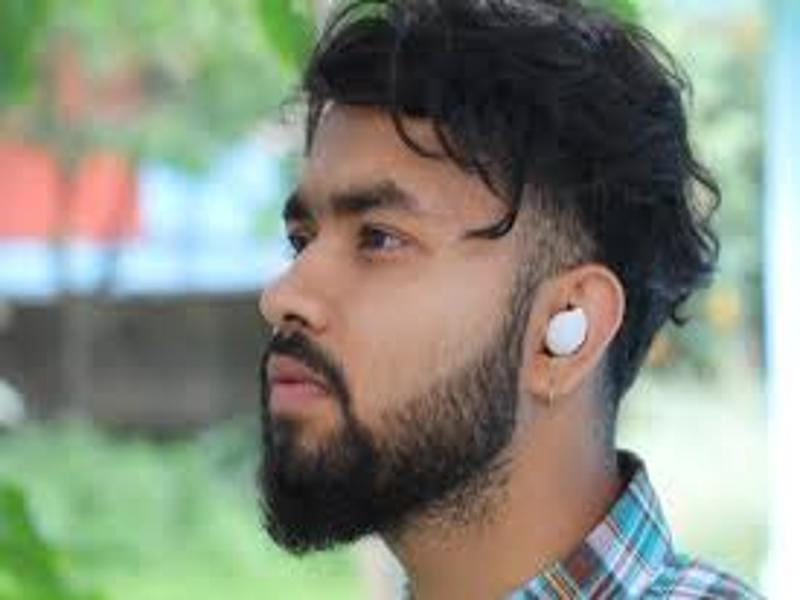headphone: (543, 307, 588, 357)
